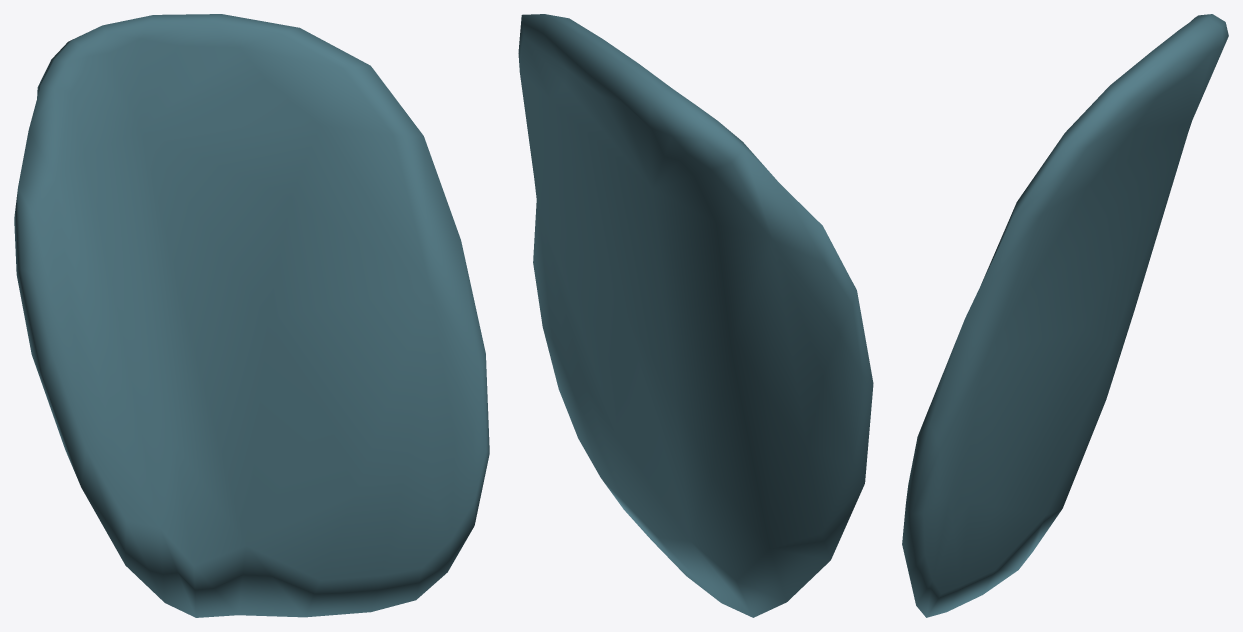
Rendered from Extensor_radialis_brevis-Insertion.l_Generated_Mesh_From_X3D.56.glb.
3 views of the same model, side by side, from view 1: azimuth 30°, elevation 25°; view 2: azimuth 150°, elevation 25°; view 3: azimuth 270°, elevation 25° (orthographic). The views are drawn at different scales.
Parts seen in each view (by area): view 1: Extensor_radialis_brevis-Insertion.l_Generated_Mesh_From_X3D; view 2: Extensor_radialis_brevis-Insertion.l_Generated_Mesh_From_X3D; view 3: Extensor_radialis_brevis-Insertion.l_Generated_Mesh_From_X3D.
Part boxes in pixels (box(x1,y1,x2,y2)): Extensor_radialis_brevis-Insertion.l_Generated_Mesh_From_X3D: box(14, 14, 489, 617); Extensor_radialis_brevis-Insertion.l_Generated_Mesh_From_X3D: box(518, 14, 873, 617); Extensor_radialis_brevis-Insertion.l_Generated_Mesh_From_X3D: box(902, 14, 1228, 617).
Bounding box in the file's own units: 0.00501 × 0.0069 × 0.00379.
